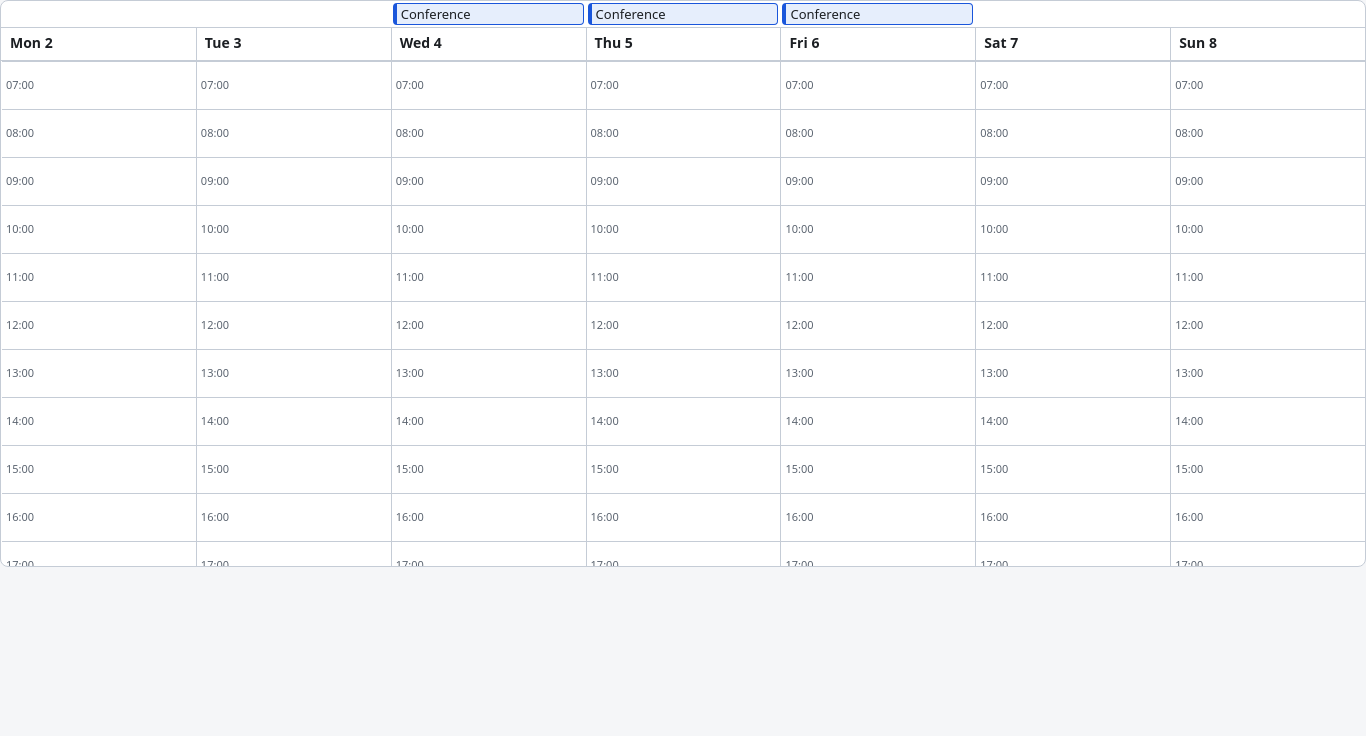
Scenario: Calendar: all-day events › opens with dates in the form, the last date as the user thinks of it
(page scrolled)
Click the button with aria-label "Conference," at x=488, y=14, box [393, 3, 584, 25]
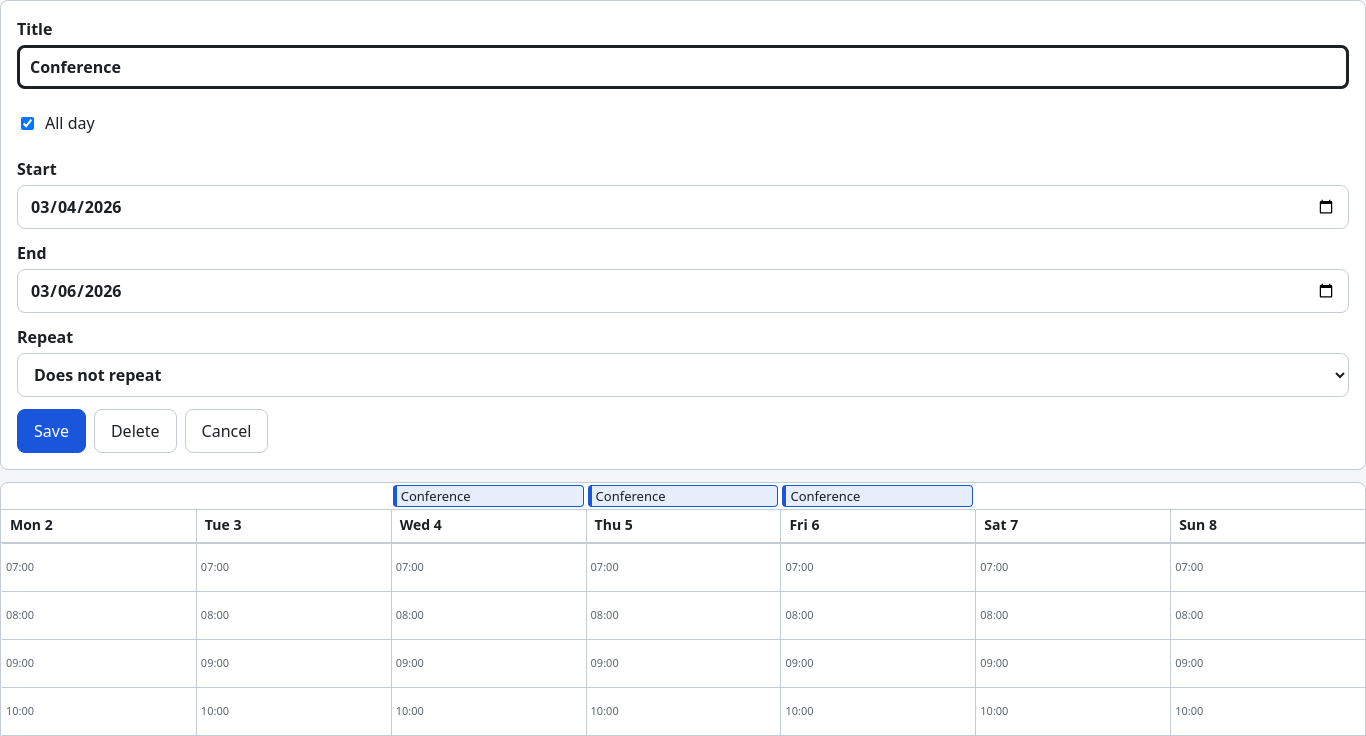
Result: the checkbox labelled "All day" is checked at [21, 116, 34, 130]
Result: the date field labelled "Start" holds "2026-03-04" at [17, 185, 1349, 229]
Result: the date field labelled "End" holds "2026-03-06" at [17, 269, 1349, 313]
